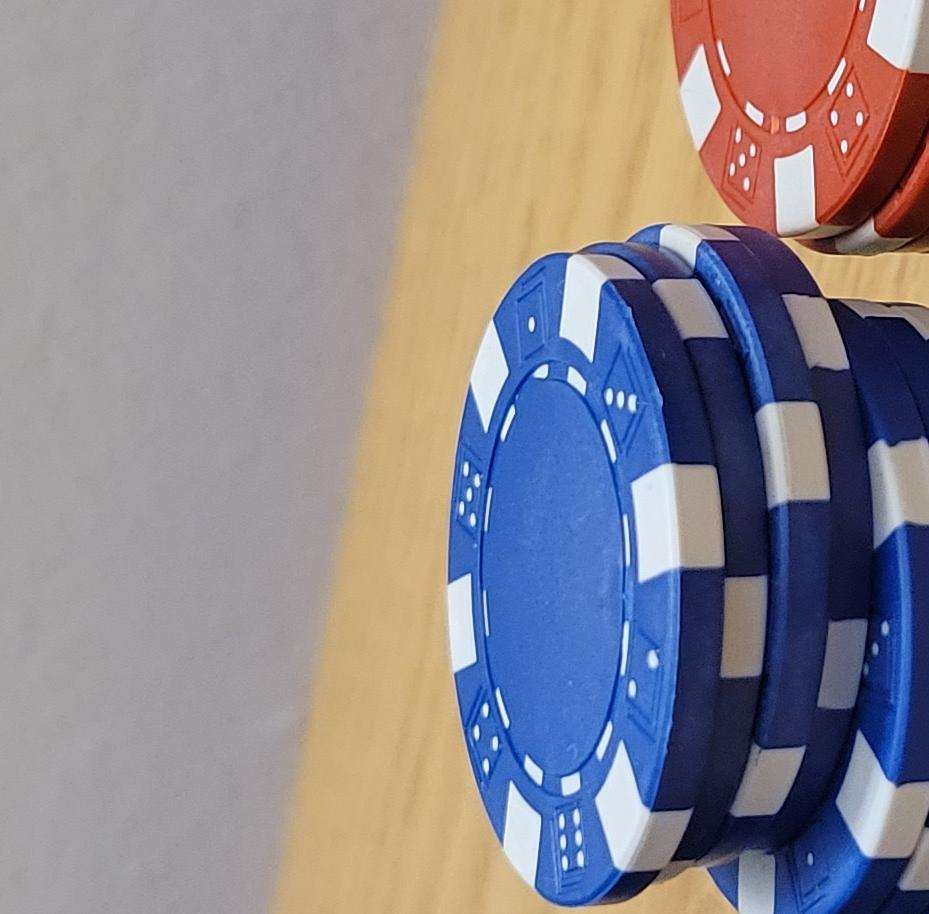Chip: (1, 388, 390, 914)
